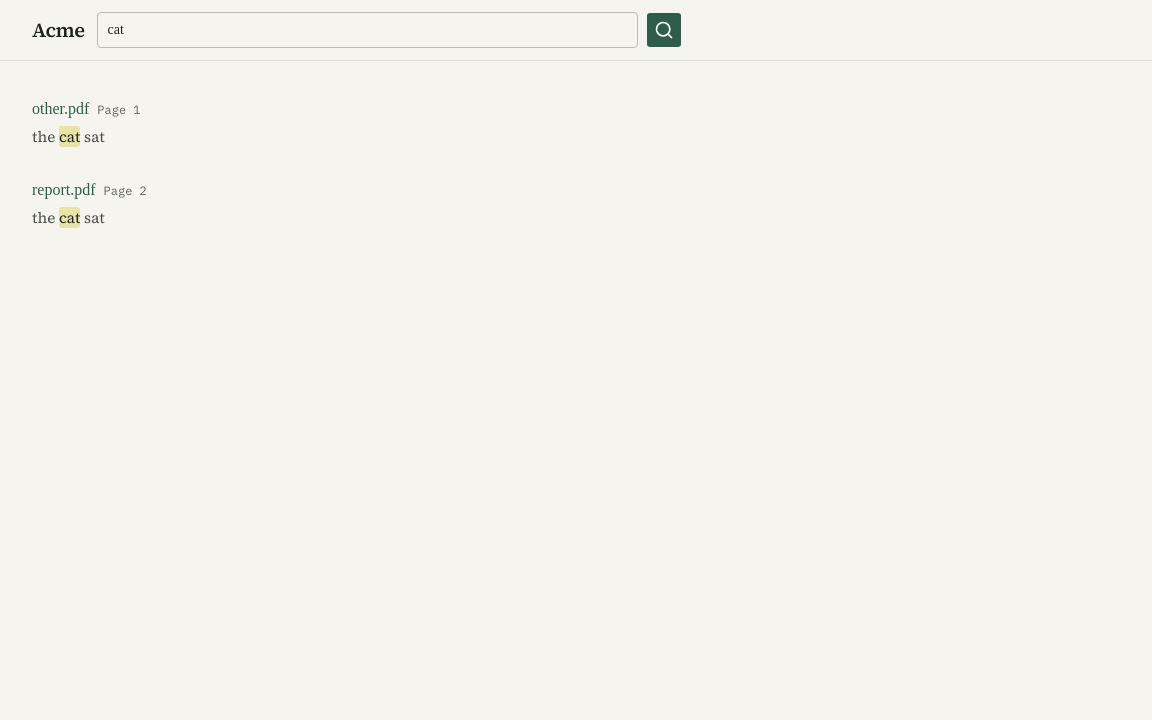
Test: SearchPanel › opens the Document preview at the row's page and closes back to the results
Click the button "report.pdfPage 2 the cat sat" at coordinates (64, 189), box [20,166,630,242]
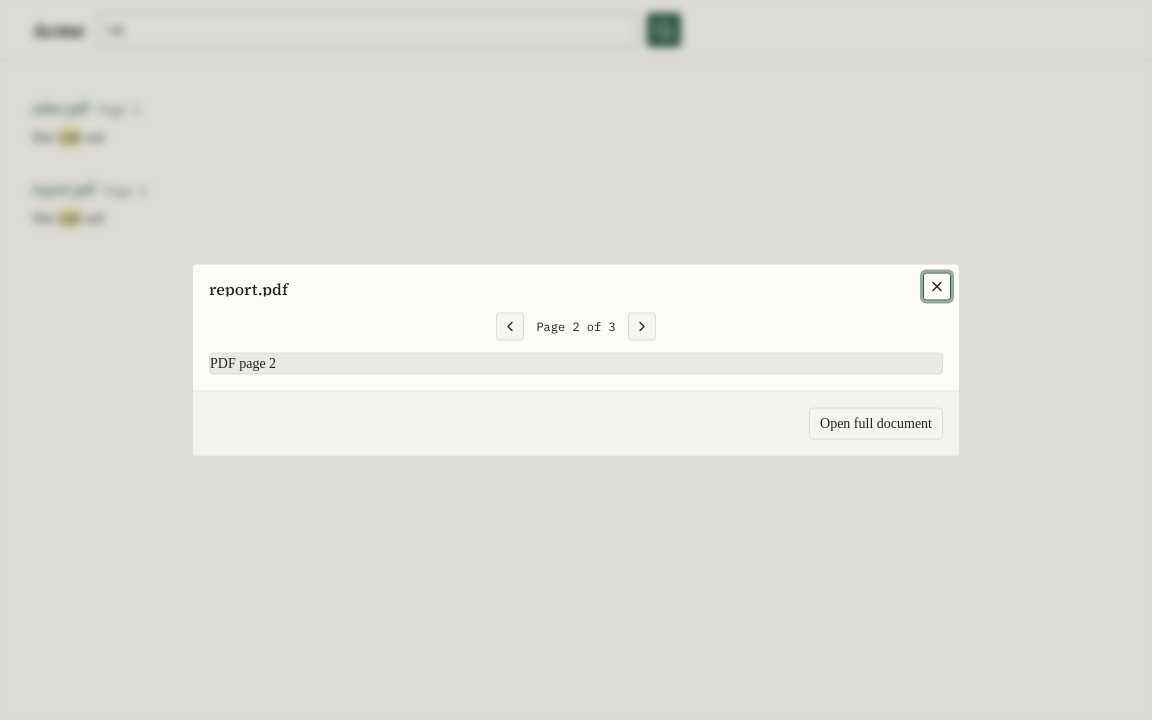
Check: the dialog "report.pdf" is shown, box [192,264,960,456]
Check: the text "PDF page 2" is shown, box [210,356,276,370]
Press Escape
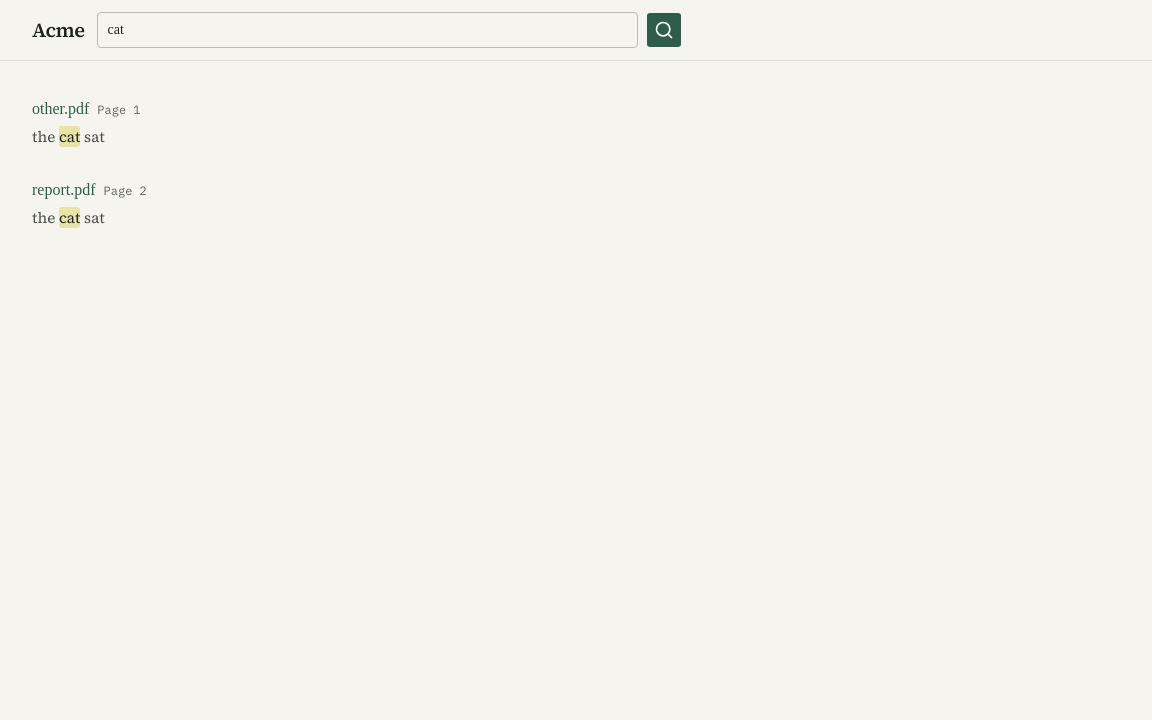
Check: the list named "Search results" is shown, box [20,85,630,242]
Check: the dialog is gone
